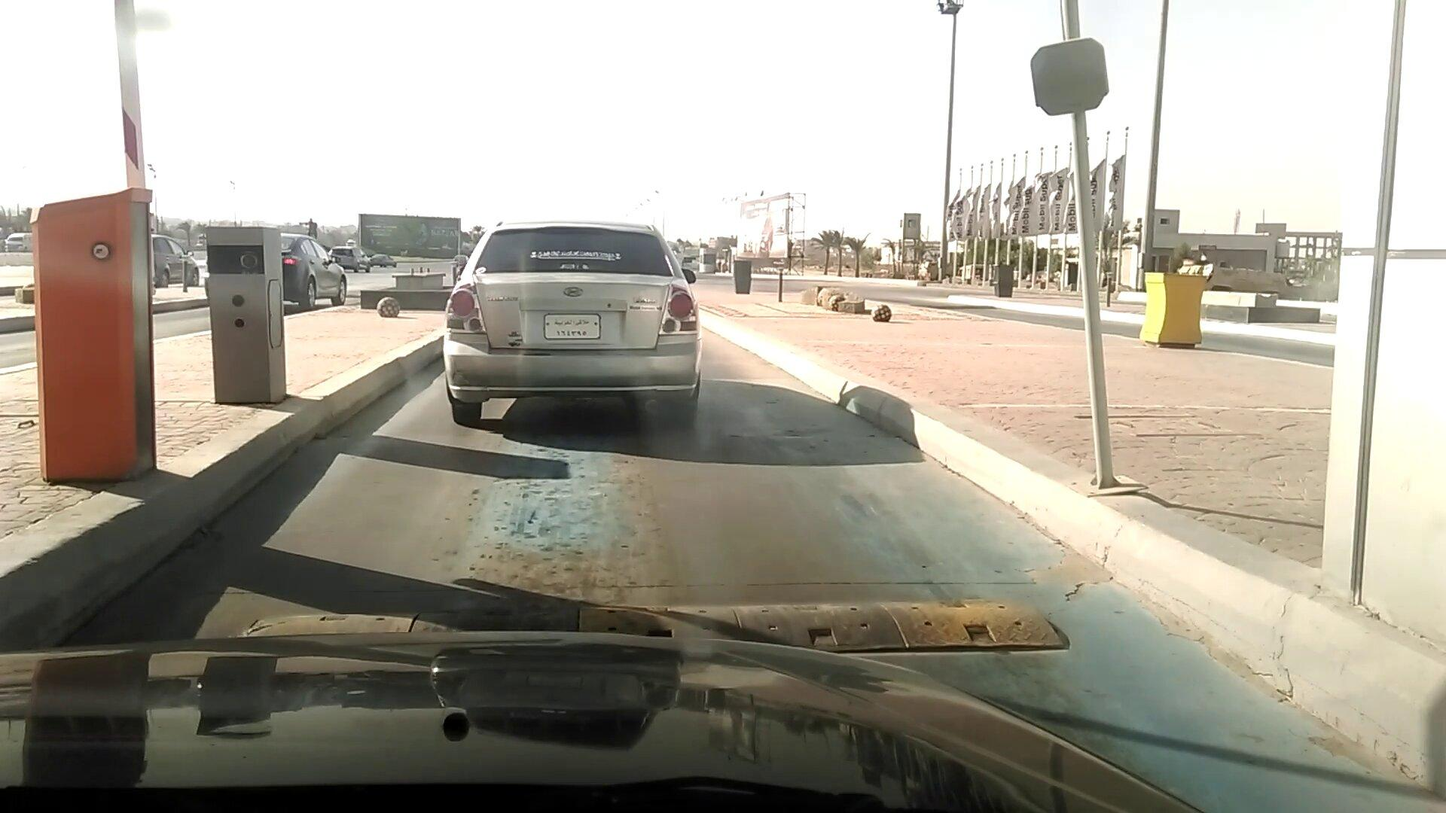Bump: (239, 580, 1111, 653)
